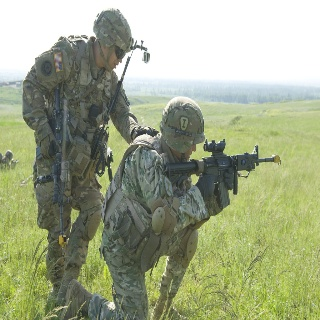rifle: (161, 138, 282, 196), (47, 86, 73, 239)
